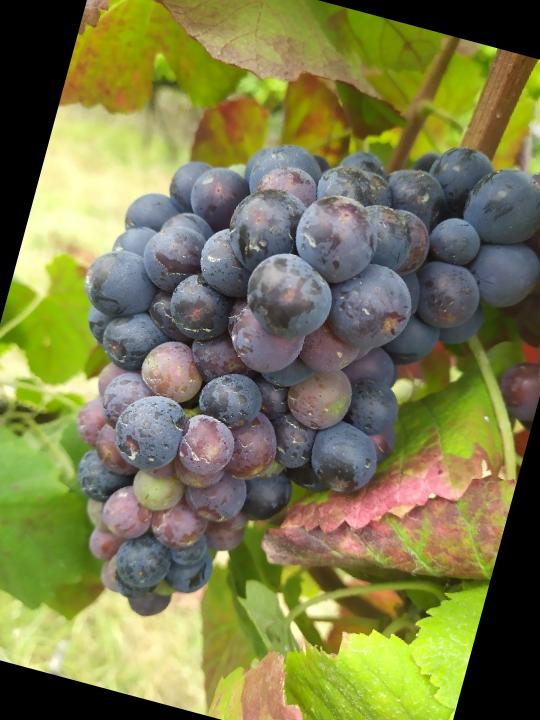grape: (1, 52, 540, 696)
